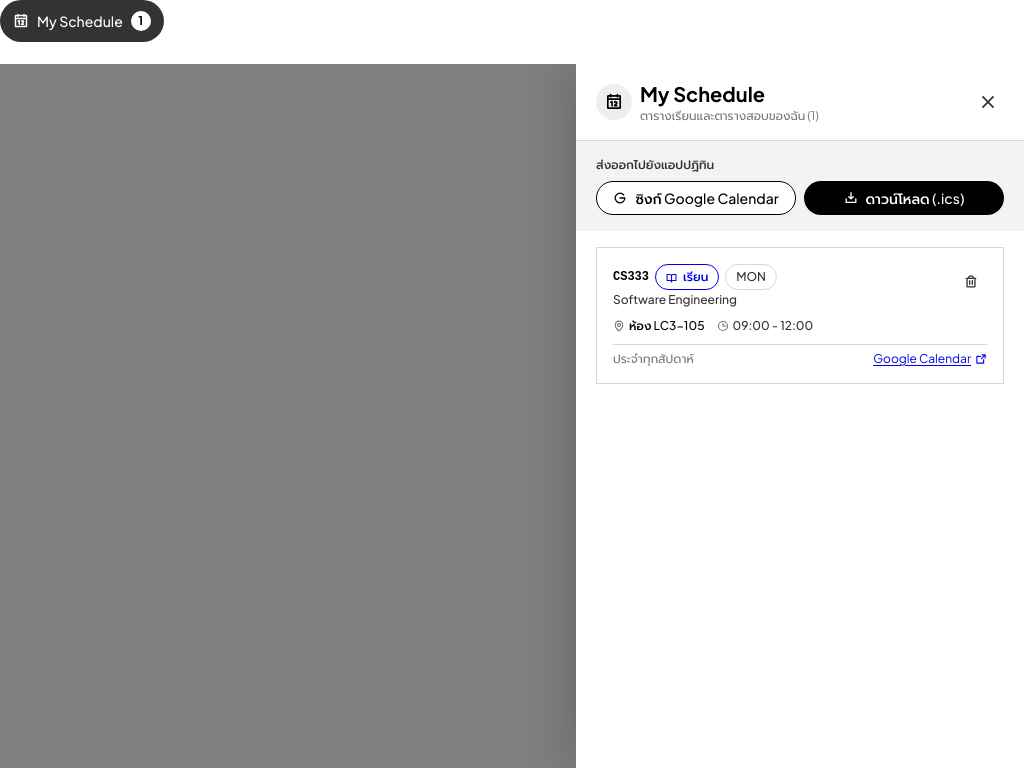
Scenario: MyScheduleDrawer Component › Google Calendar sync › reports failed items as an error so the user can retry
Step 1. Click the button with test id "sync-google-button" → [696, 198], box [596,181,796,215]
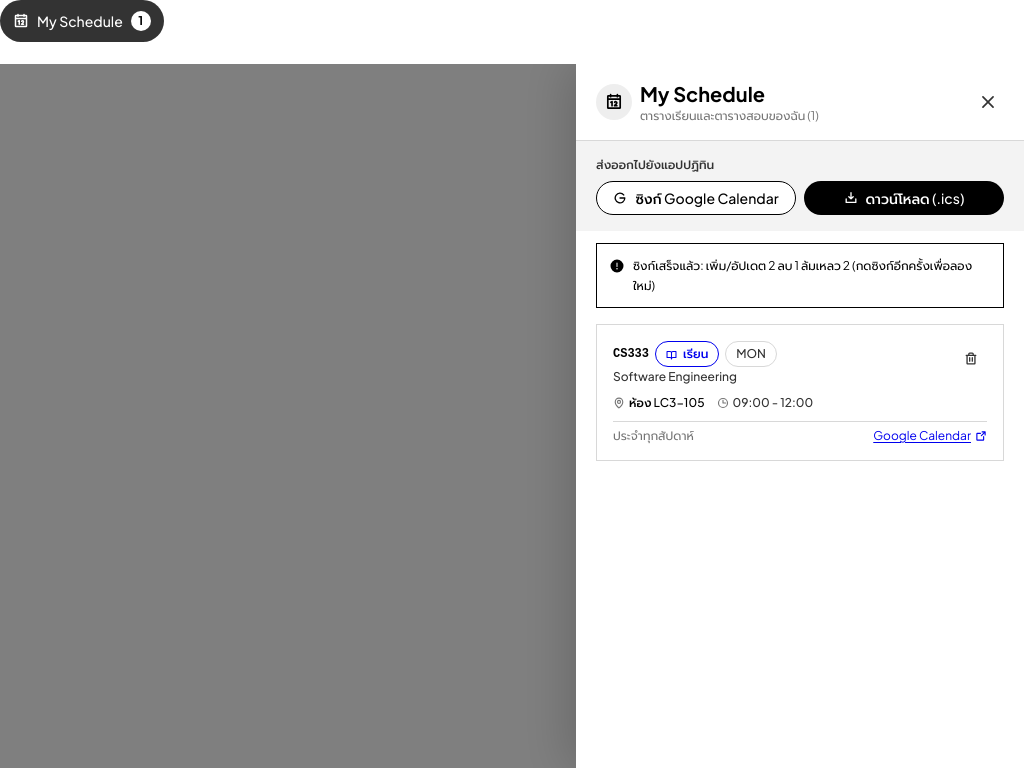
Expected: the message shows "ล้มเหลว 2", [633,258,972,292]
